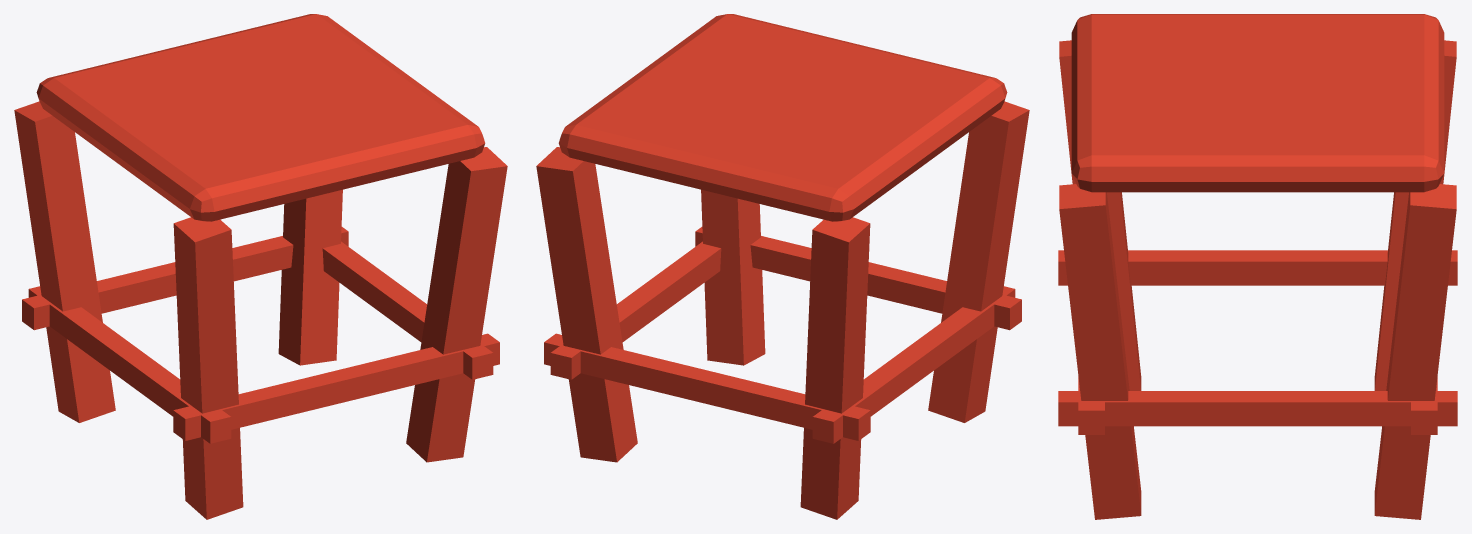
The model's file is ghe-nhua-do.glb.
The picture shows the model from 3 angles, left to right: view 1: azimuth 30°, elevation 25°; view 2: azimuth 150°, elevation 25°; view 3: azimuth 270°, elevation 25°; orthographic projection. The views are drawn at different scales.
Parts seen in each view (by area): view 1: ghe-nhua-do; view 2: ghe-nhua-do; view 3: ghe-nhua-do.
Part boxes in pixels (x1,y1,x2,y2): ghe-nhua-do: (14, 14, 507, 519); ghe-nhua-do: (536, 14, 1029, 519); ghe-nhua-do: (1058, 14, 1457, 519).
Bounding box in the file's own units: 0.3 × 0.3034 × 0.3.
